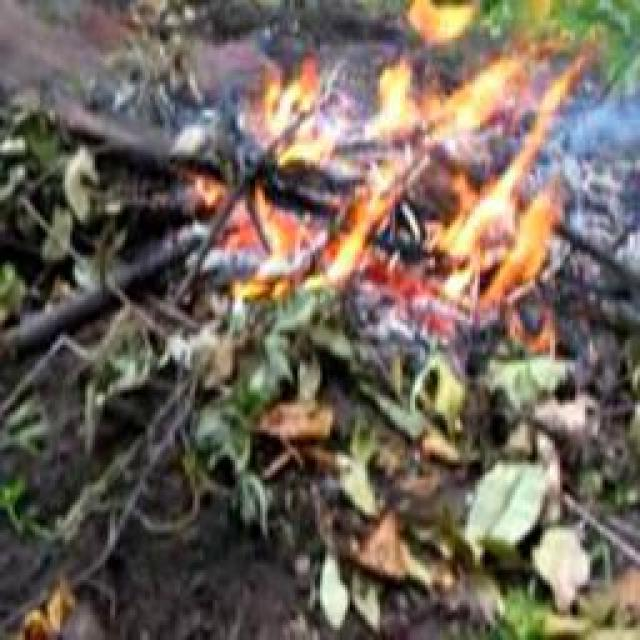Fire: (368, 61, 597, 297), (235, 188, 358, 299), (272, 58, 341, 197)
